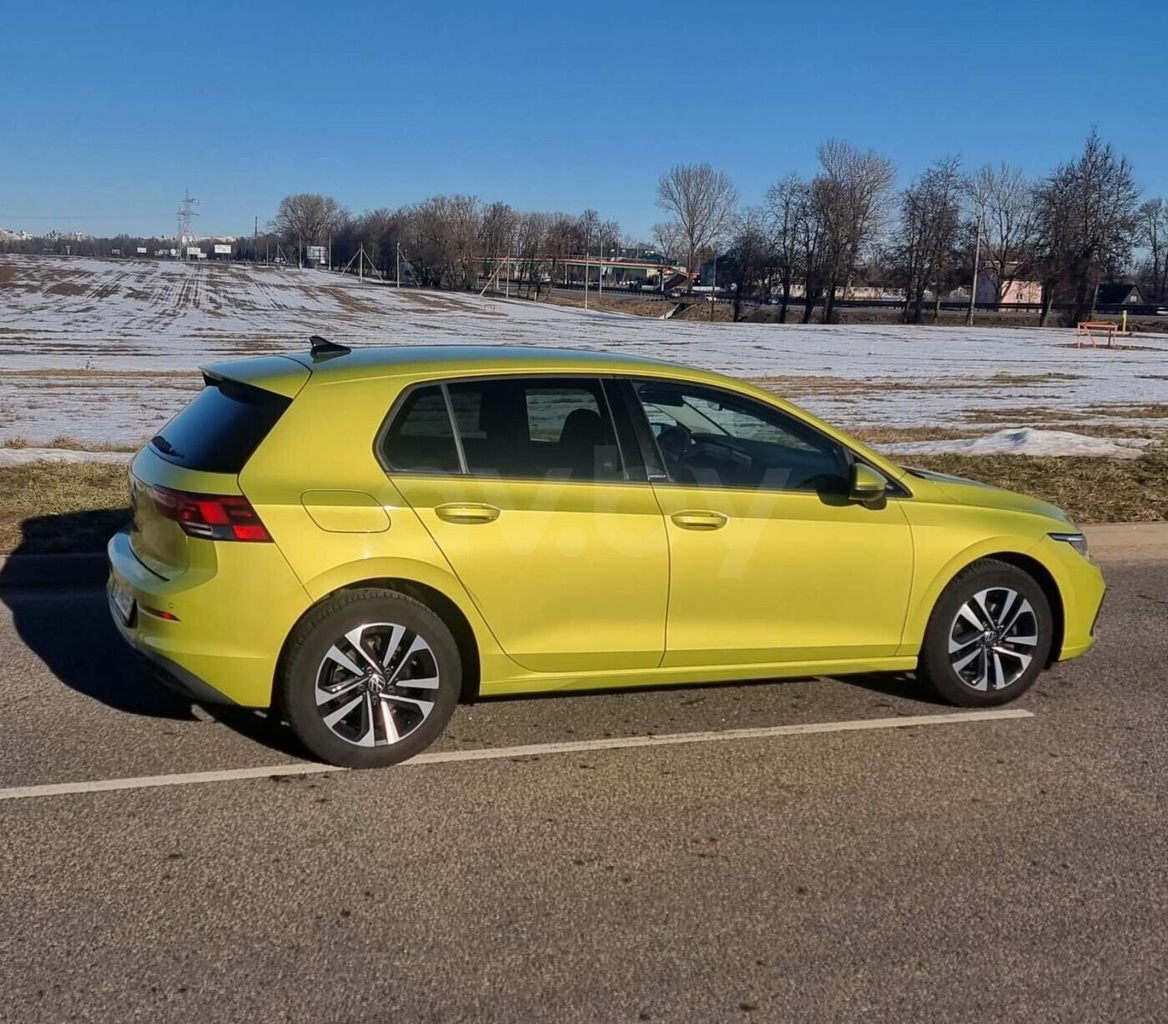Golf_2019: (90, 338, 1114, 770)
